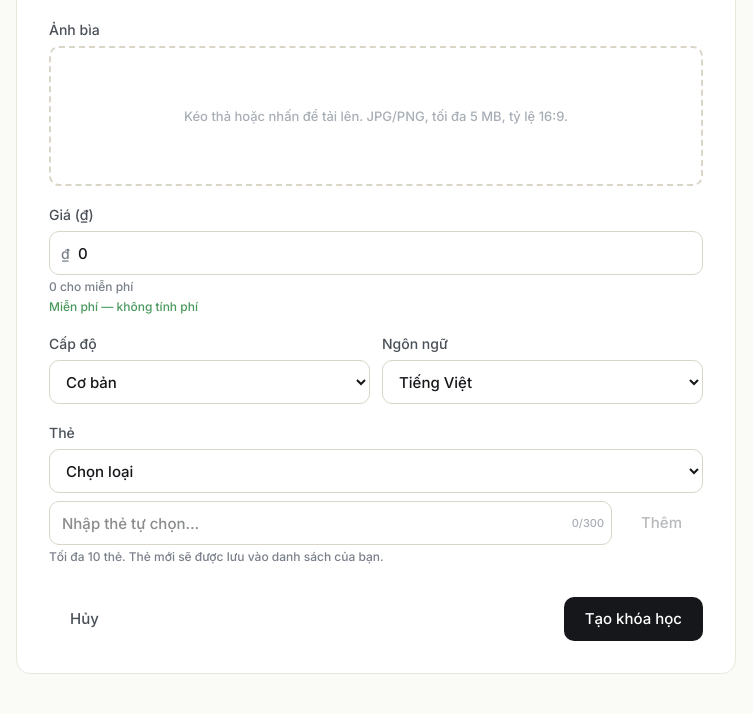
Scenario: NewCoursePage › shows validation error when submitting with empty title
This screenshot has width=753, height=714.
(page scrolled)
Click the button with test id "submit-course-btn": (633, 619) [564, 597, 703, 641]
(page scrolled)
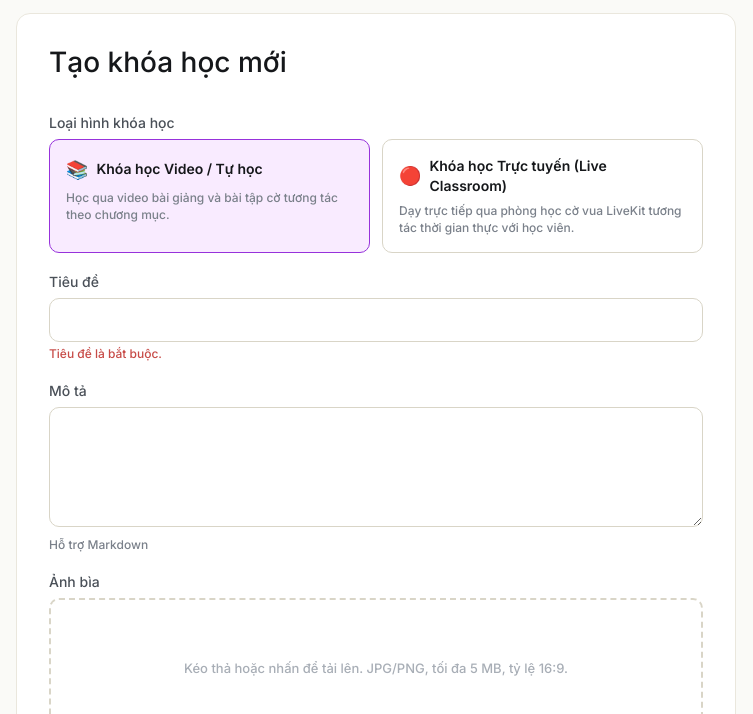
Expected: the text "Tiêu đề là bắt buộc." is shown, [49, 346, 162, 361]
